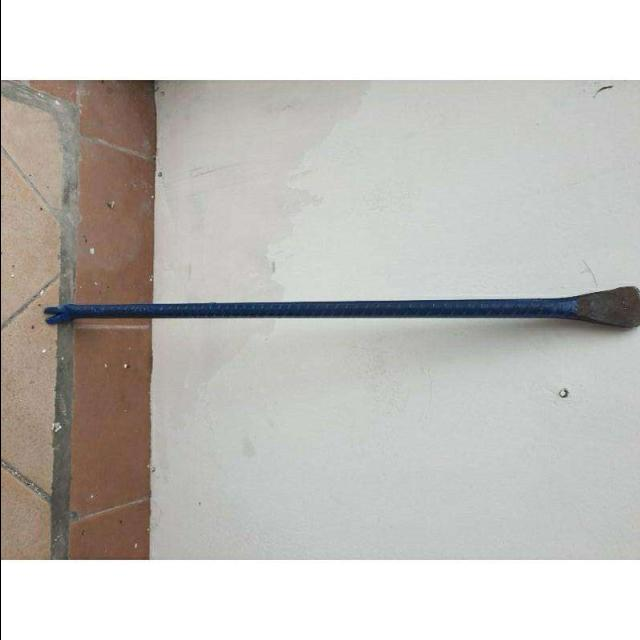Linggis: (47, 288, 640, 332)
